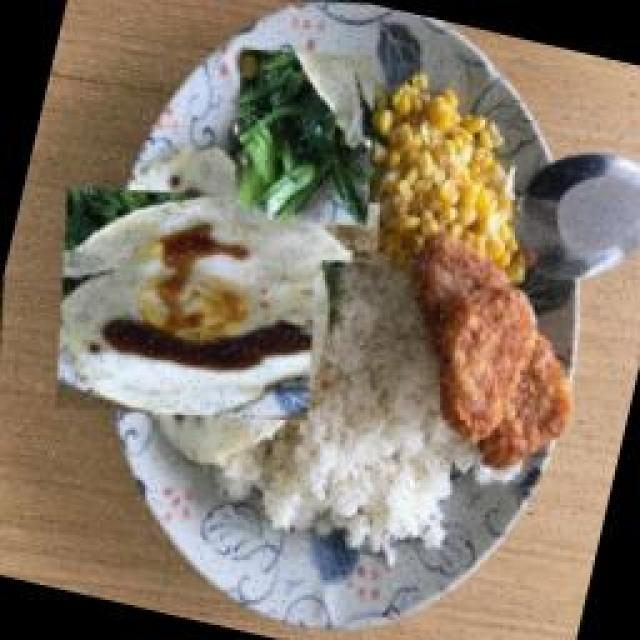fried_eggs: (30, 118, 403, 491)
rice: (255, 238, 498, 561)
triangle_hash_brown: (363, 203, 618, 498)
water_spinach: (203, 25, 406, 250)
